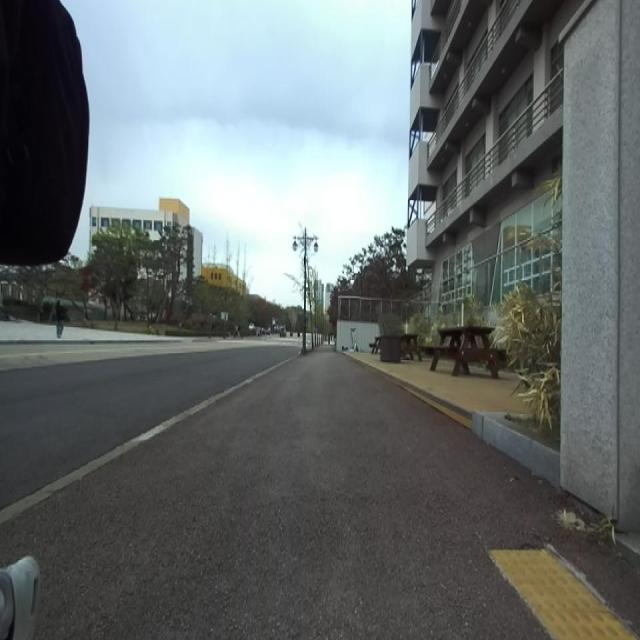sidewalk: (0, 347, 640, 639), (0, 357, 295, 524), (490, 550, 636, 640)
